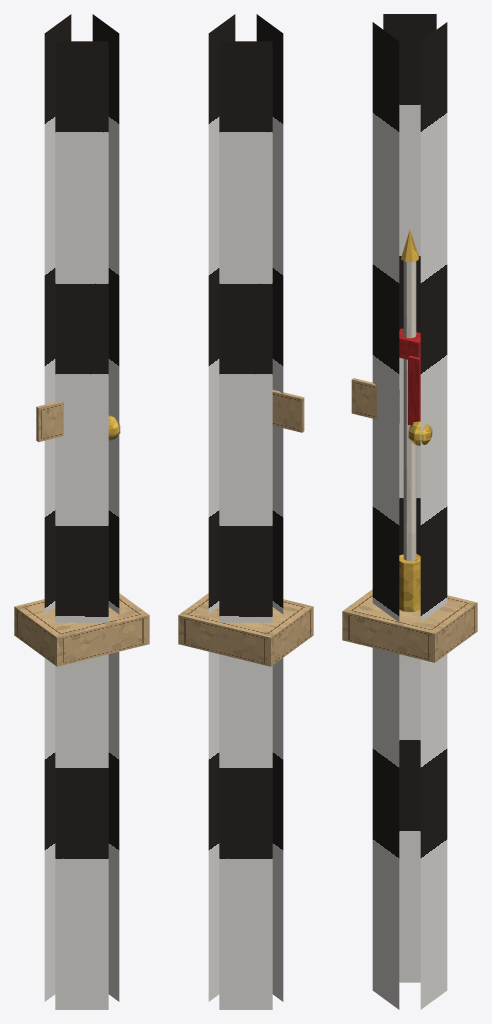
File: hamaya_own.glb
The picture shows the model from 3 angles, left to right: view 1: azimuth 30°, elevation 25°; view 2: azimuth 150°, elevation 25°; view 3: azimuth 330°, elevation 25°; orthographic projection.
Parts seen in each view (by area): view 1: Cube; view 2: Cube; view 3: Cube.
Boxes of the visible parts, x1,y1,x2,y2 form: Cube: (14, 14, 149, 1009); Cube: (178, 14, 313, 1009); Cube: (342, 14, 477, 1009).
Size of the model in its own units: 0.105 by 1 by 0.08.
5 materials, 5 textured.
